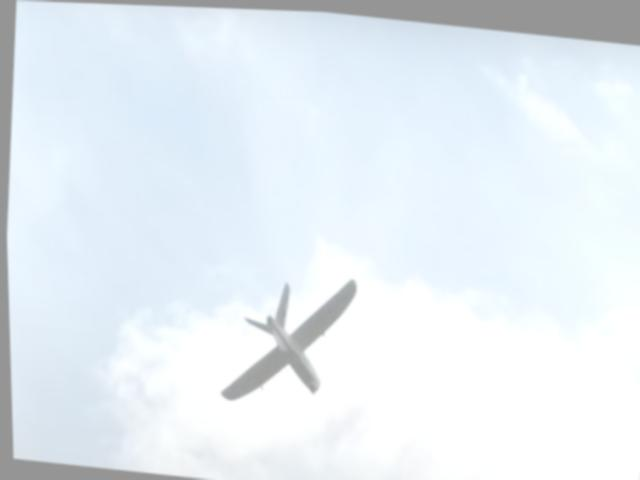uav: (207, 254, 362, 421)
